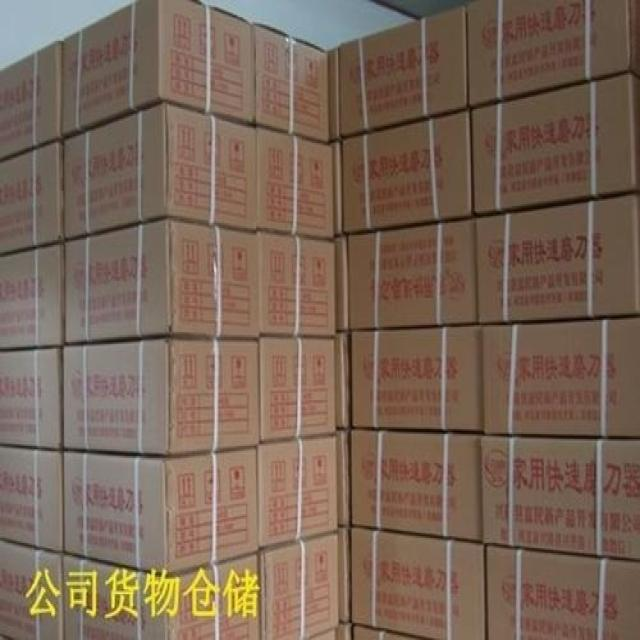Carton: (61, 2, 330, 453), (348, 329, 639, 560), (342, 73, 630, 226), (61, 448, 256, 574), (474, 194, 637, 317), (479, 322, 639, 432), (259, 237, 337, 446), (338, 9, 466, 133), (468, 0, 628, 94), (351, 534, 486, 638), (344, 218, 472, 327), (486, 548, 639, 638), (0, 39, 60, 250), (260, 439, 337, 545), (265, 536, 337, 638), (0, 245, 61, 349), (0, 444, 58, 553), (0, 349, 58, 444)
